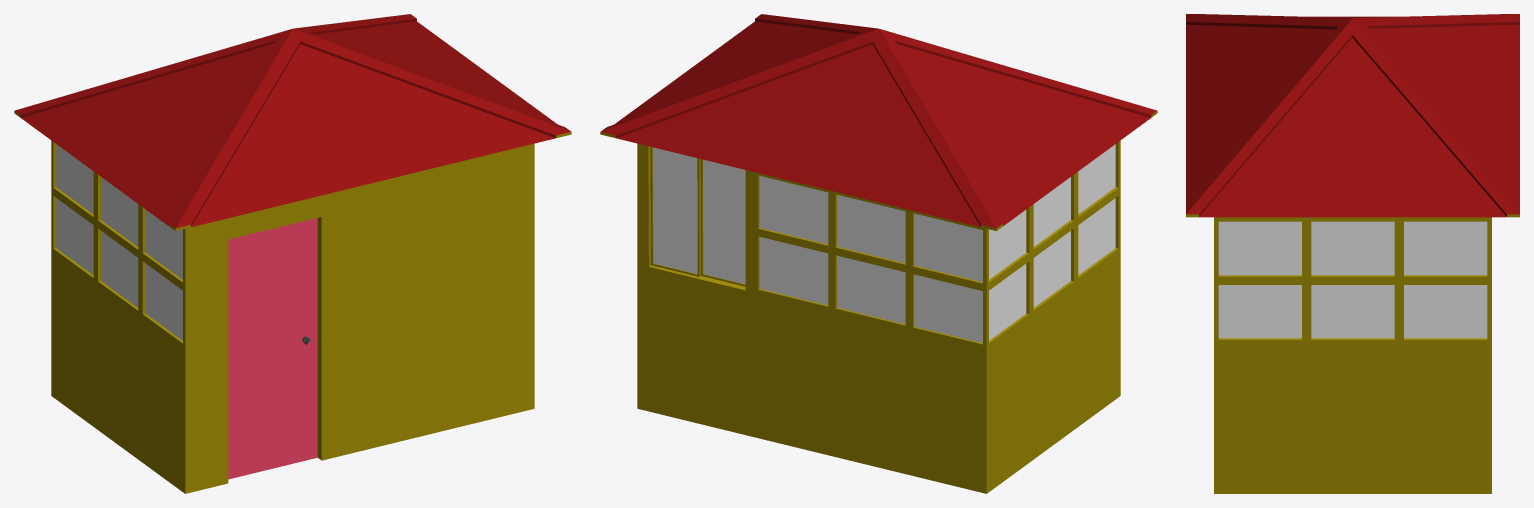
File: house1.FBX
3 renders of one model, left to right at view 1: azimuth 30°, elevation 25°; view 2: azimuth 150°, elevation 25°; view 3: azimuth 270°, elevation 25°, orthographic. The views are drawn at different scales.
Visible parts, largest first — view 1: Cube; view 2: Cube; view 3: Cube.
Part boxes in pixels (x1=…): Cube: x1=14, y1=14, x2=571, y2=493; Cube: x1=600, y1=14, x2=1157, y2=493; Cube: x1=1186, y1=14, x2=1519, y2=493.
Size of the model in its own units: 134 by 121 by 94.21.
